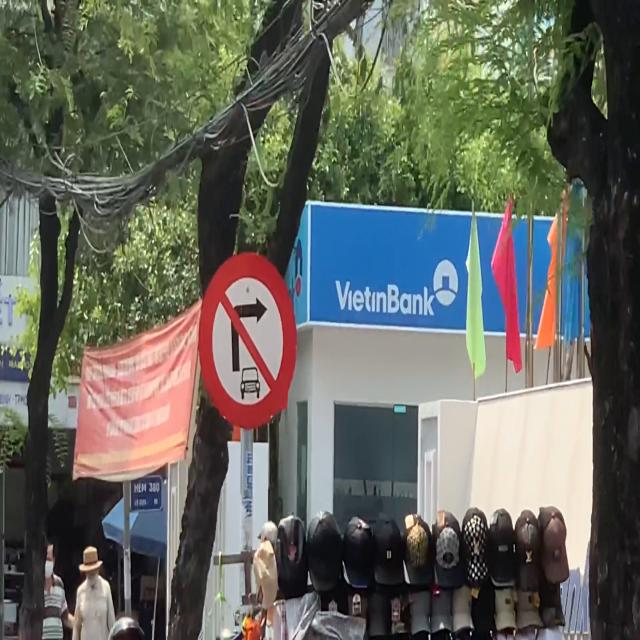Cam re phai: (199, 249, 297, 429)
